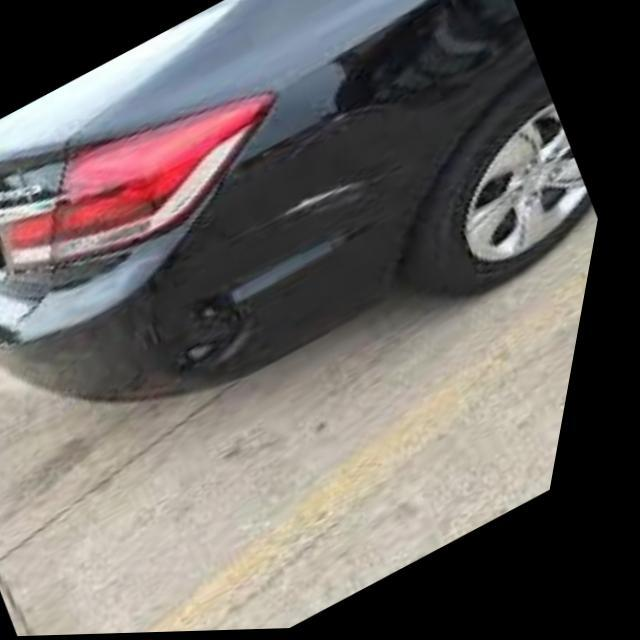crack: (170, 300, 261, 389)
scratch: (256, 172, 401, 247)
